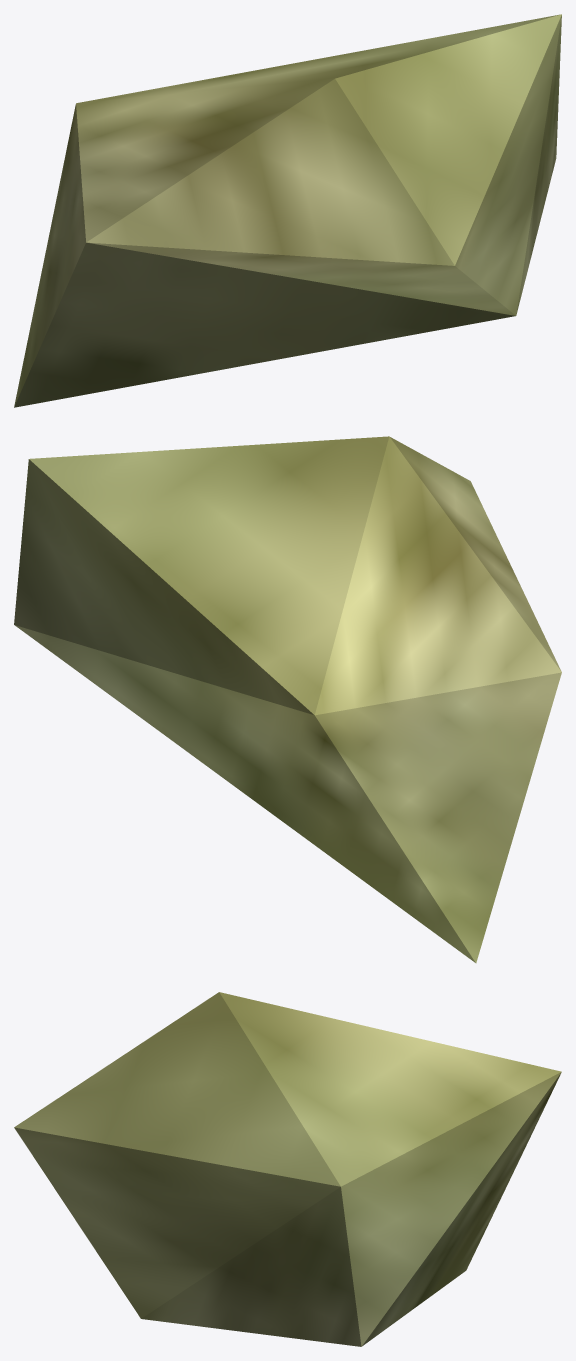
3 views of the same model, one above another, from view 1: azimuth 30°, elevation 25°; view 2: azimuth 150°, elevation 25°; view 3: azimuth 270°, elevation 25° (orthographic). The views are drawn at different scales.
Bounding box in the file's own units: 0.1568 × 0.1107 × 0.1443.
Materials: 1 (1 with a texture image).
